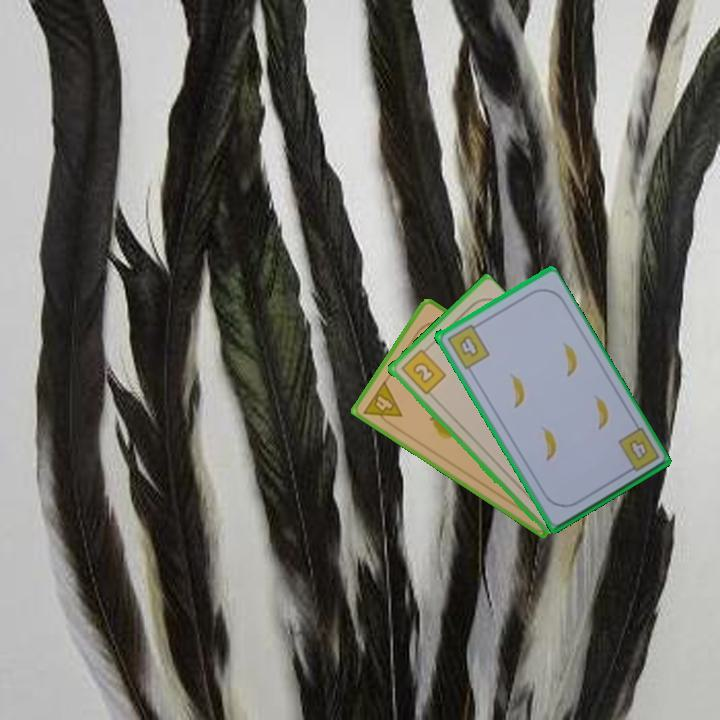2b: (397, 343, 448, 397)
4b: (443, 319, 492, 372), (625, 436, 650, 461)
4p: (359, 377, 405, 431)
